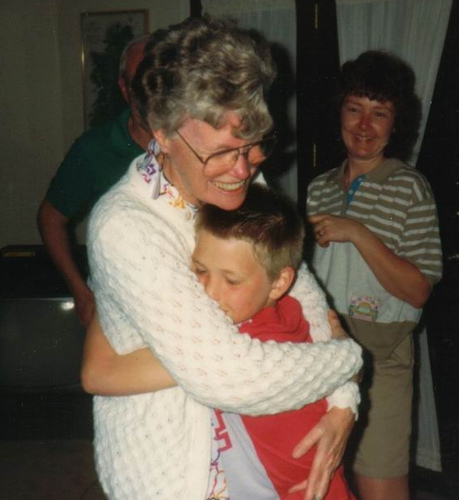without_mask: (159, 86, 268, 213), (192, 219, 296, 326), (339, 80, 399, 163)
